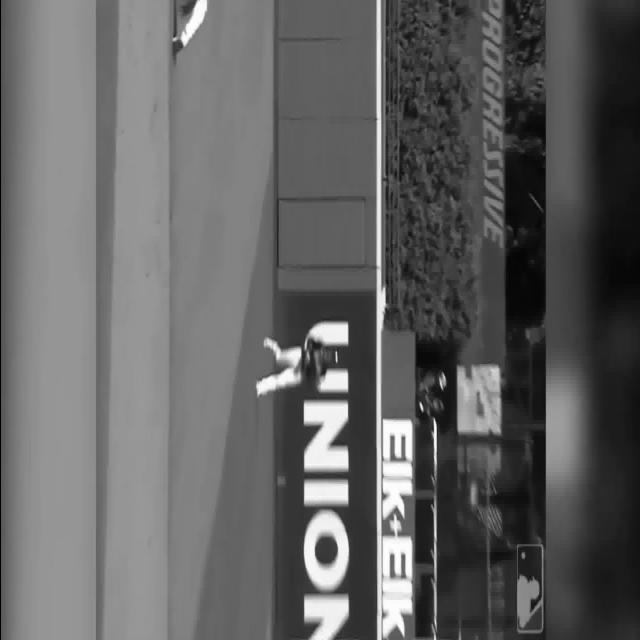shoe: (171, 0, 207, 60), (171, 35, 183, 65), (262, 336, 276, 350), (254, 379, 260, 397)
